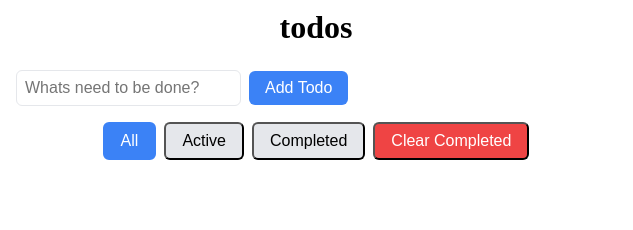
Scenario: App › adds a new todo
Type "New Todo" into the field with placeholder "Whats need to be done?".
click(128, 88); type("New Todo")  # box [16,70,241,106]
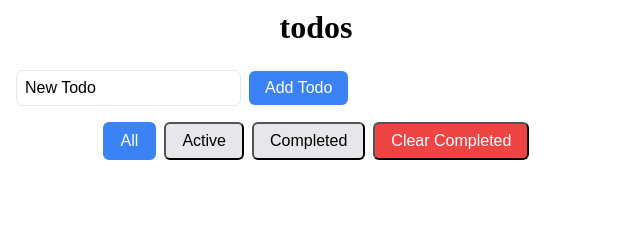
Click the button "Add Todo".
click(299, 88)  # box [249,71,348,105]
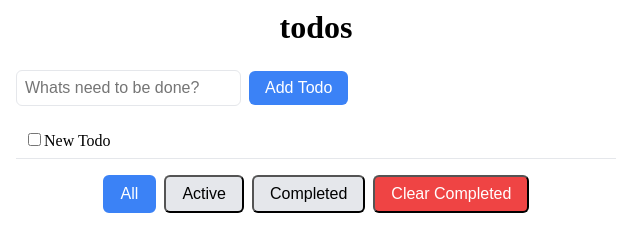
Now the text "New Todo" is shown, box [44,132,111,149]
